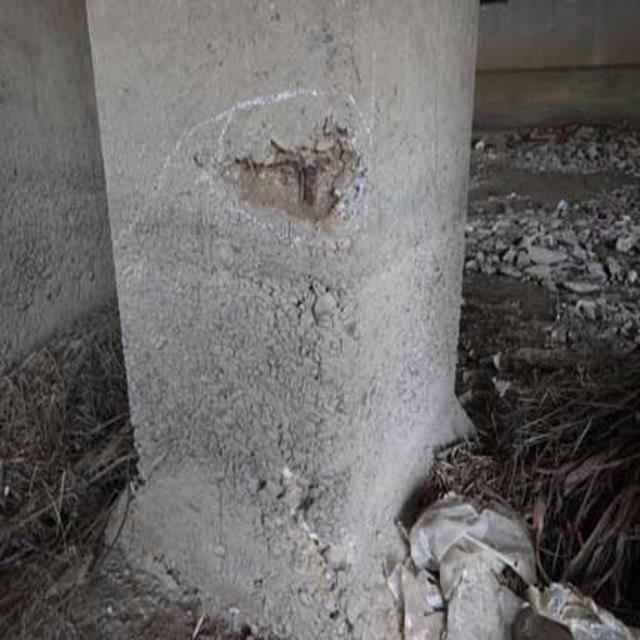spalling: (264, 426, 376, 624), (216, 130, 390, 241)
